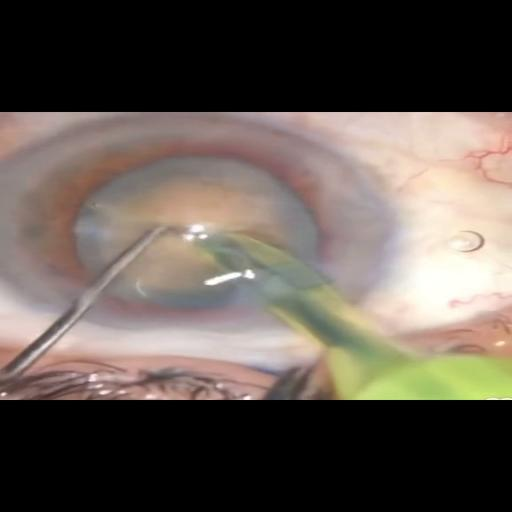catarata: (69, 156, 314, 307)
cornea: (0, 119, 393, 325)
pupil: (39, 148, 360, 316)
